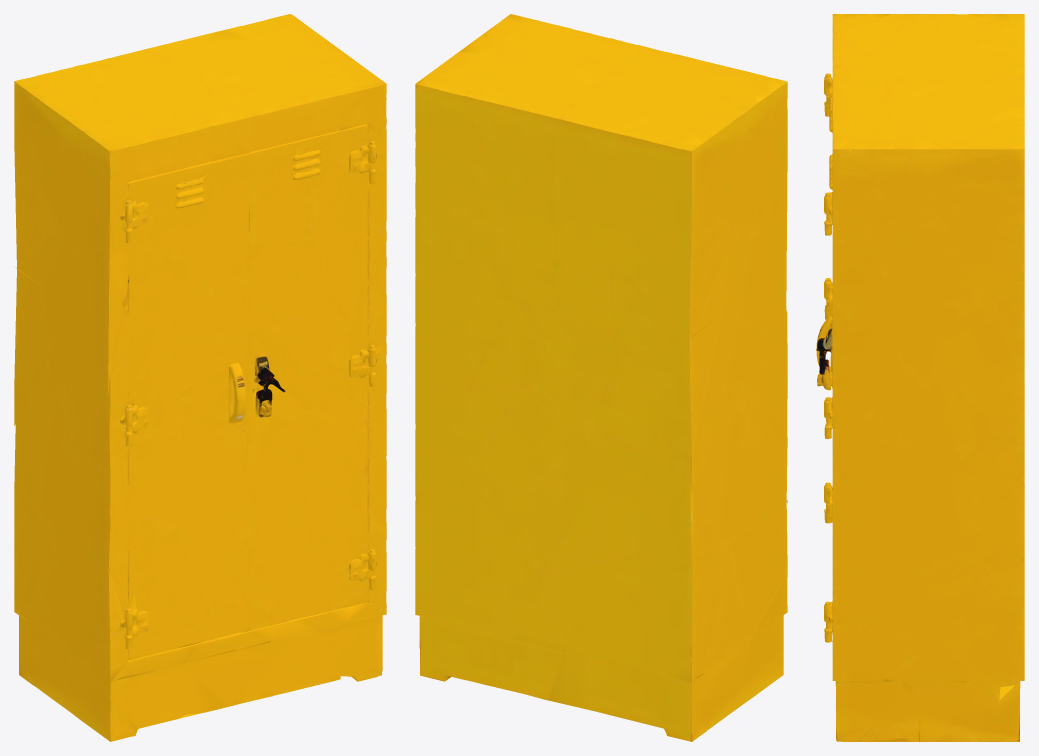
Rendered from hcrg-justrite-01.glb.
3 renders of one model, left to right at view 1: azimuth 30°, elevation 25°; view 2: azimuth 150°, elevation 25°; view 3: azimuth 270°, elevation 25°, orthographic.
Bounding box in the file's own units: 0.9286 × 1.9 × 0.6039.
Materials: 1 (1 with a texture image).
